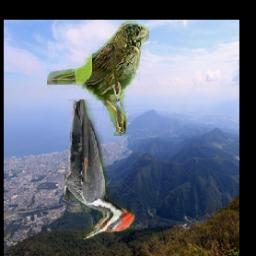Sparrow: (48, 22, 150, 137)
Woodpecker: (64, 99, 134, 239)
